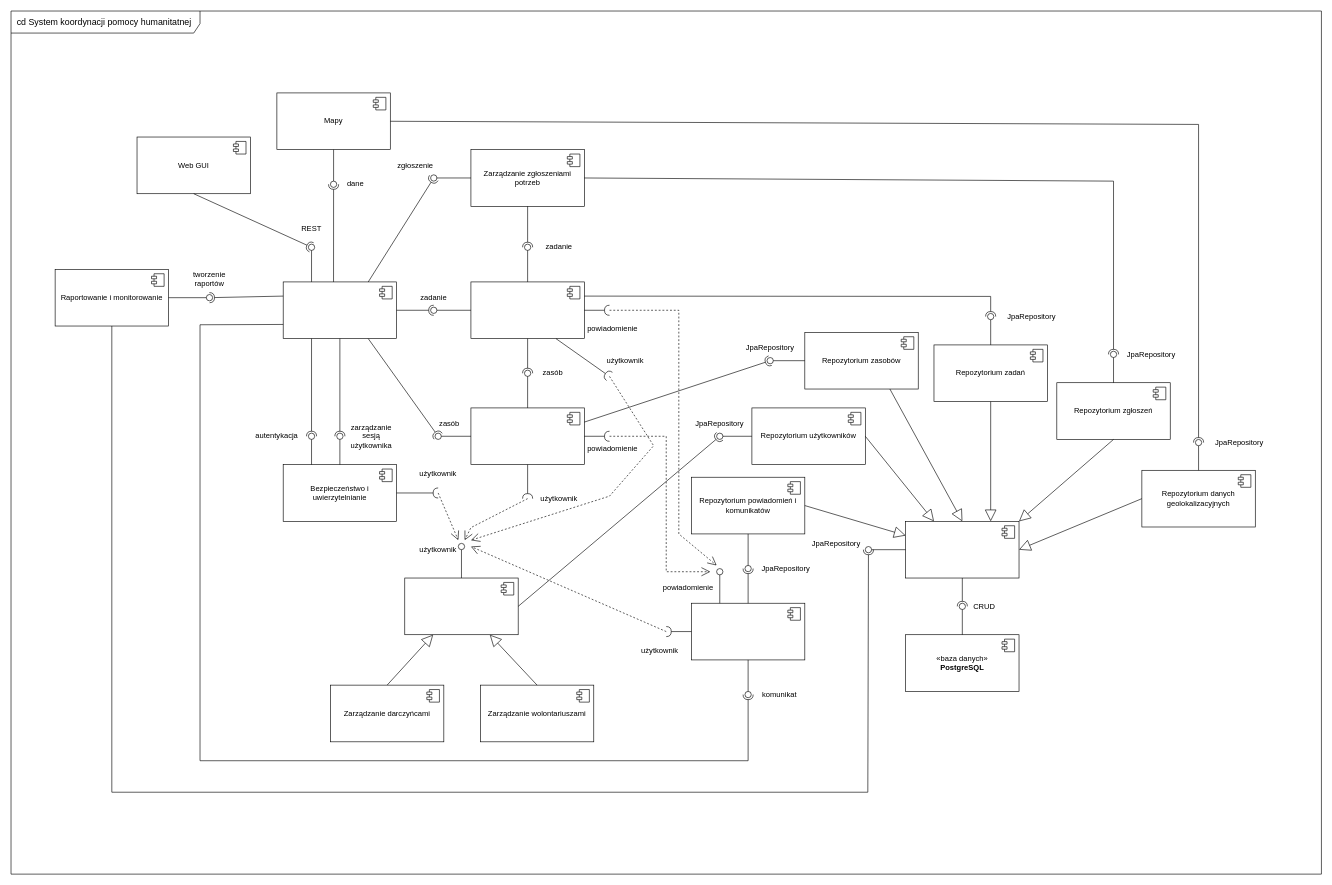
Some shapes in this 1332 by 885 pixel diagram are drawn without their labels. The centre of each missing label's shape, as x and y in pixels:
"Moduł komunikacji" belongs at (x=748, y=631).
"Repozytorium danych" belongs at (x=962, y=549).
"Web Controller" belongs at (x=340, y=310).
"Zarządzanie użytkownikami" belongs at (x=461, y=606).
"Zarządzanie zadaniami" belongs at (x=527, y=310).
"Zarządzanie zasobami" belongs at (x=527, y=436).
